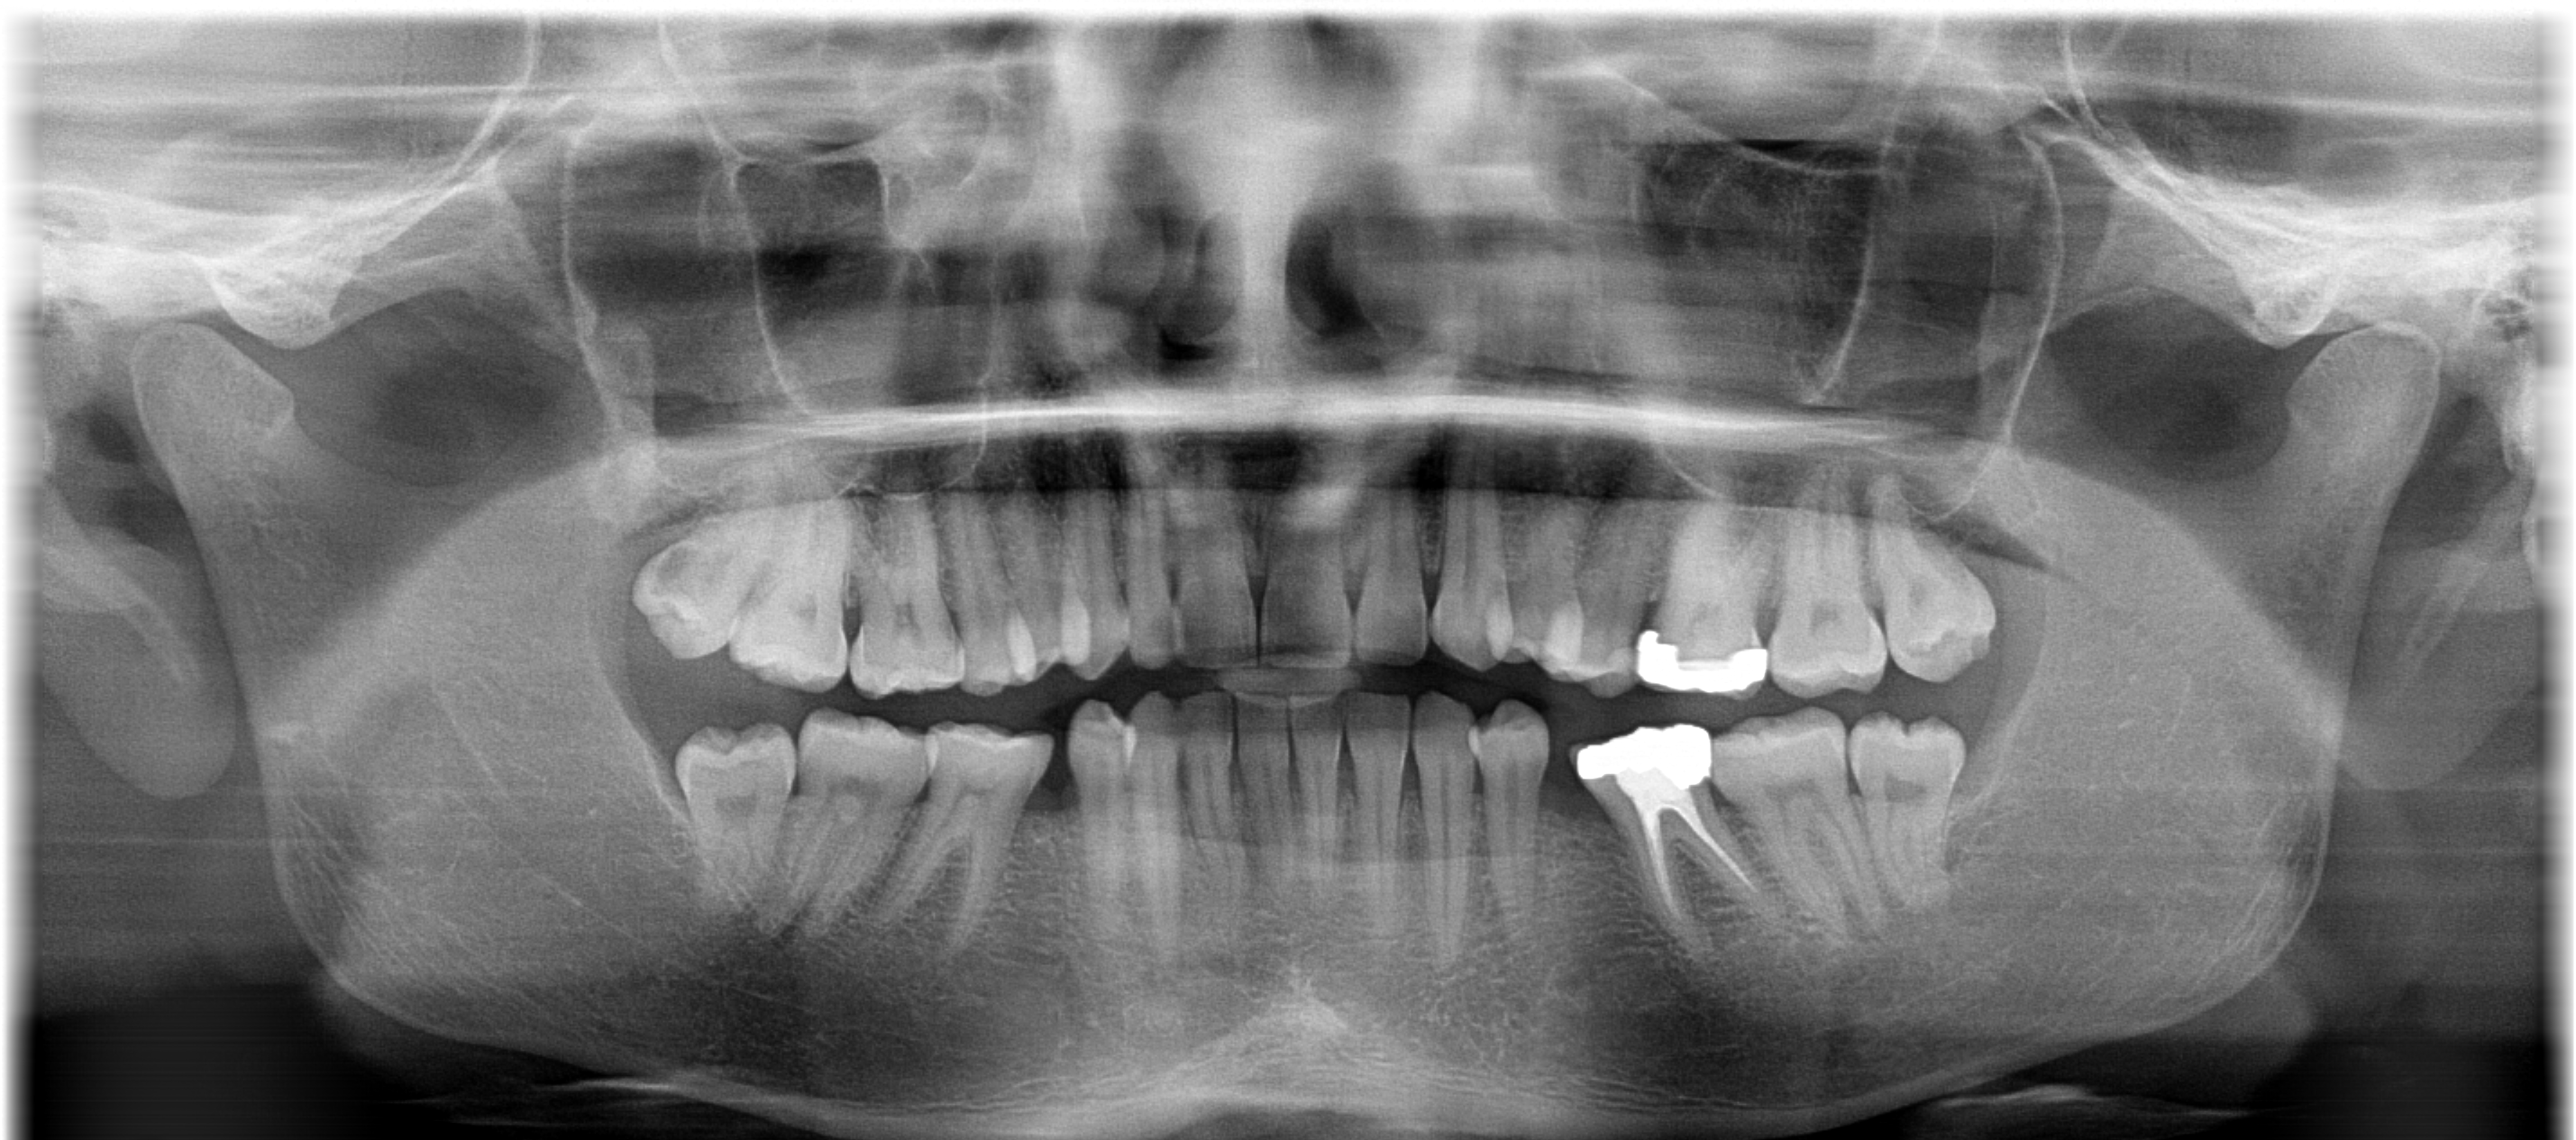cordal: (646, 700, 820, 943), (1855, 452, 2027, 696), (626, 432, 798, 677), (1830, 700, 2012, 917)
diastema: (1019, 705, 1096, 903)
tratamiento_conducto: (1549, 683, 1791, 963)
zona_dentula: (1518, 706, 1630, 954)
